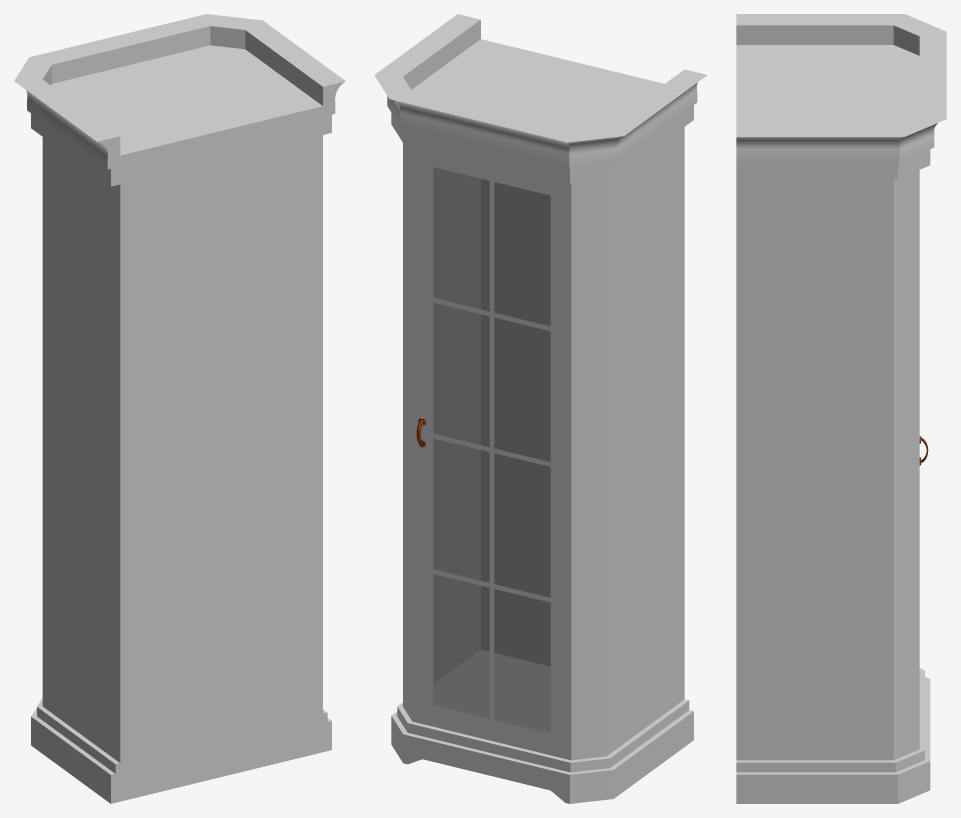
3 views of the same model, side by side, from view 1: azimuth 30°, elevation 25°; view 2: azimuth 150°, elevation 25°; view 3: azimuth 270°, elevation 25° (orthographic).
Visible parts, largest first — view 1: mesh9_mesh9-geometry; view 2: mesh9_mesh9-geometry; view 3: mesh9_mesh9-geometry.
Boxes of the visible parts, x1,y1,x2,y2 form: mesh9_mesh9-geometry: (14,14,345,803); mesh9_mesh9-geometry: (374,14,707,803); mesh9_mesh9-geometry: (736,14,946,803).
Bounding box in the file's own units: 0.3524 × 0.9006 × 0.2545.
